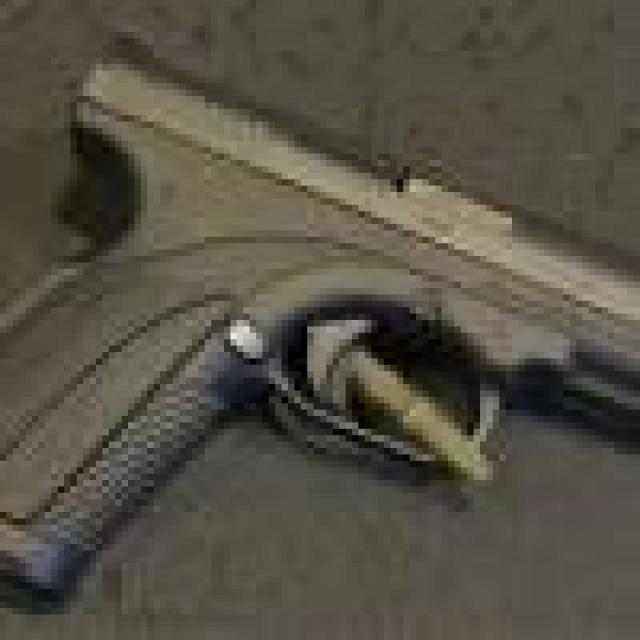Gun: (19, 32, 640, 614)
